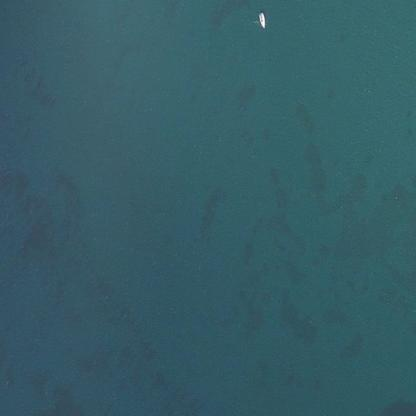ship: (245, 6, 273, 32)
